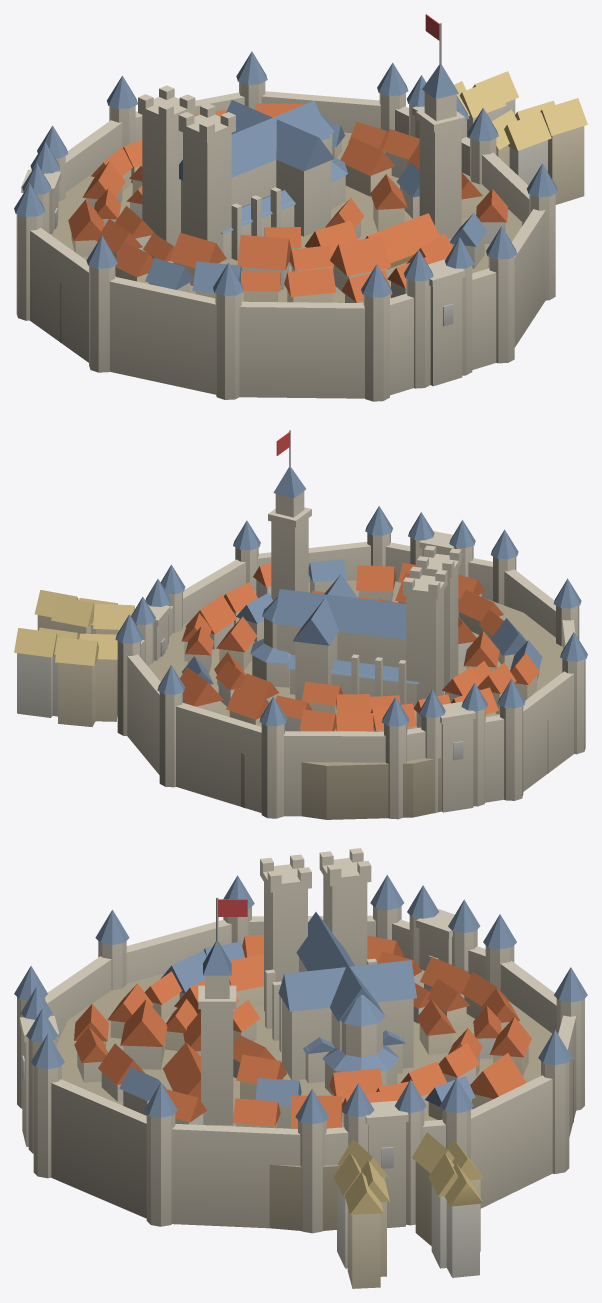
File: city_west_a.glb
The picture shows the model from 3 angles, top to bottom: view 1: azimuth 30°, elevation 25°; view 2: azimuth 150°, elevation 25°; view 3: azimuth 270°, elevation 25°; orthographic projection. The views are drawn at different scales.
Visible parts, largest first — view 1: city_west_a; view 2: city_west_a; view 3: city_west_a.
Boxes of the visible parts, box(x1,y1,x2,y2) form: city_west_a: box(14, 14, 587, 401); city_west_a: box(14, 430, 587, 819); city_west_a: box(14, 848, 587, 1288).
Size of the model in its own units: 3.54 by 1.65 by 3.02.
